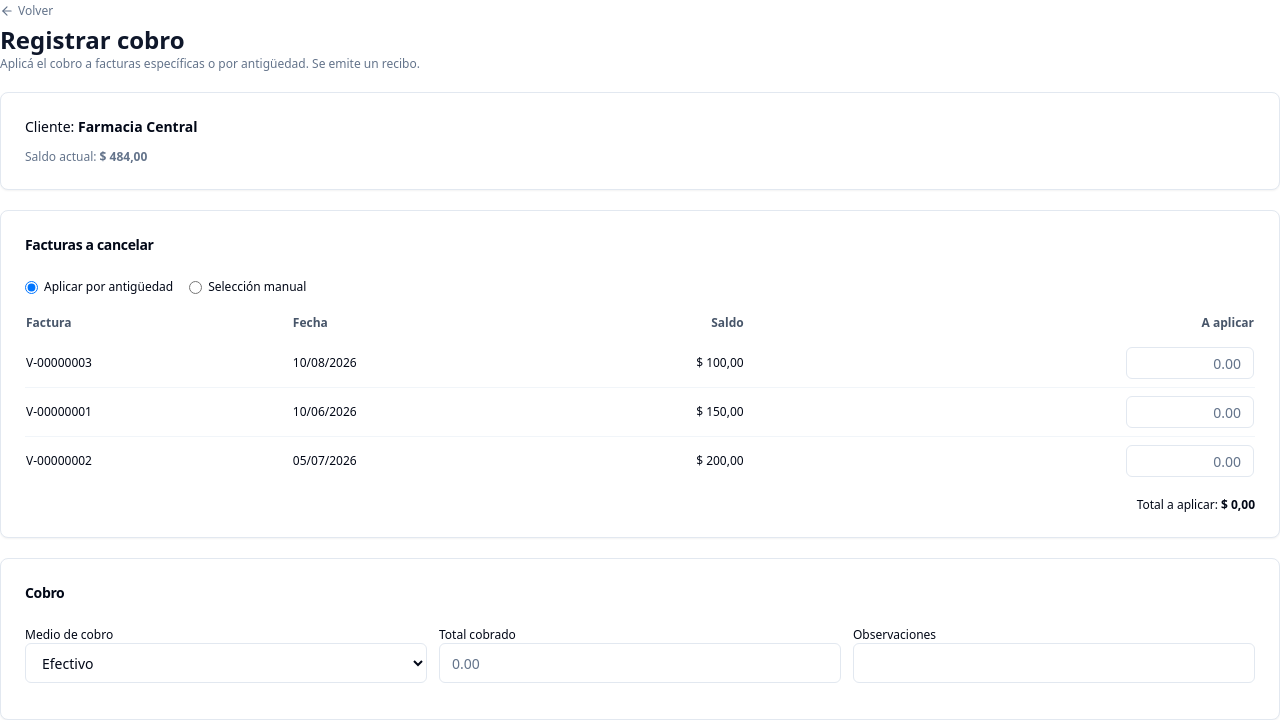
Test: PaymentFormPage › blocks a manual amount above the invoice balance
The width and height of the screenshot is (1280, 720).
Check: the text "V-00000001" is shown, box [25,388,292,436]
Click the radio button labelled "Selección manual". click: [196, 287]
box: [189,280,202,294]
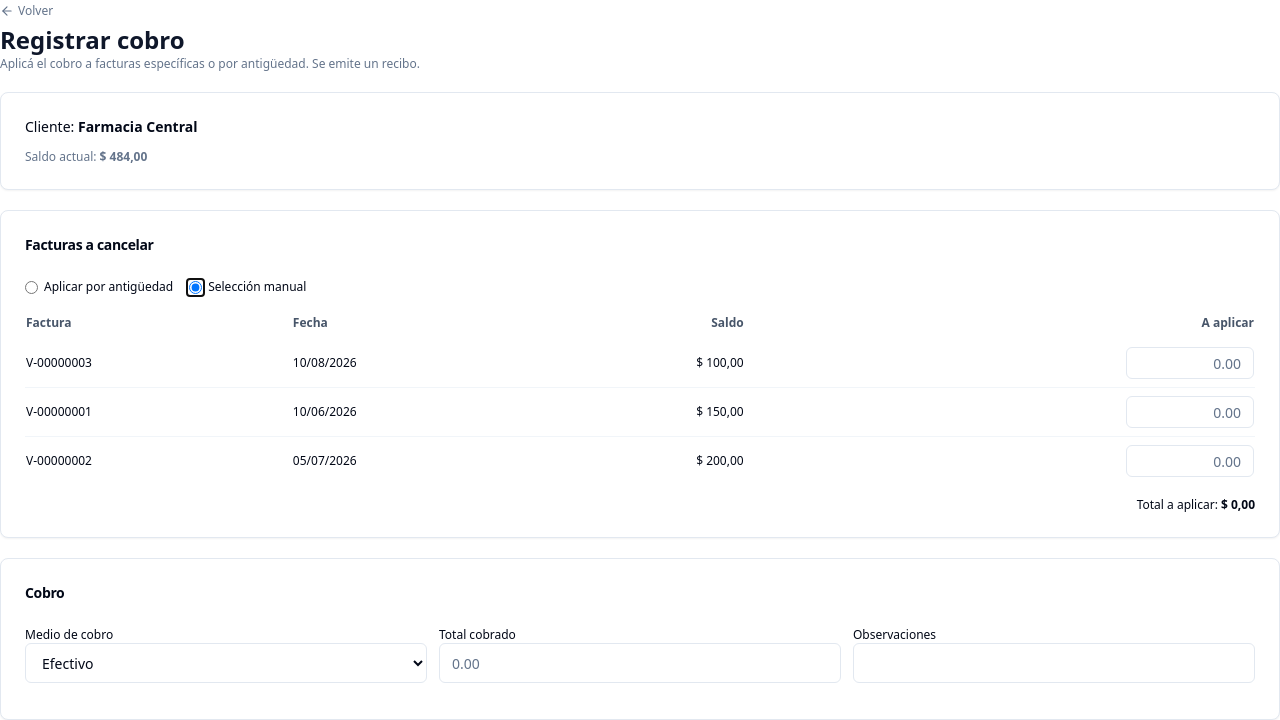
Type "160.00" into the field labelled "Total cobrado". click: [640, 663]
box: [439,643,841,683]
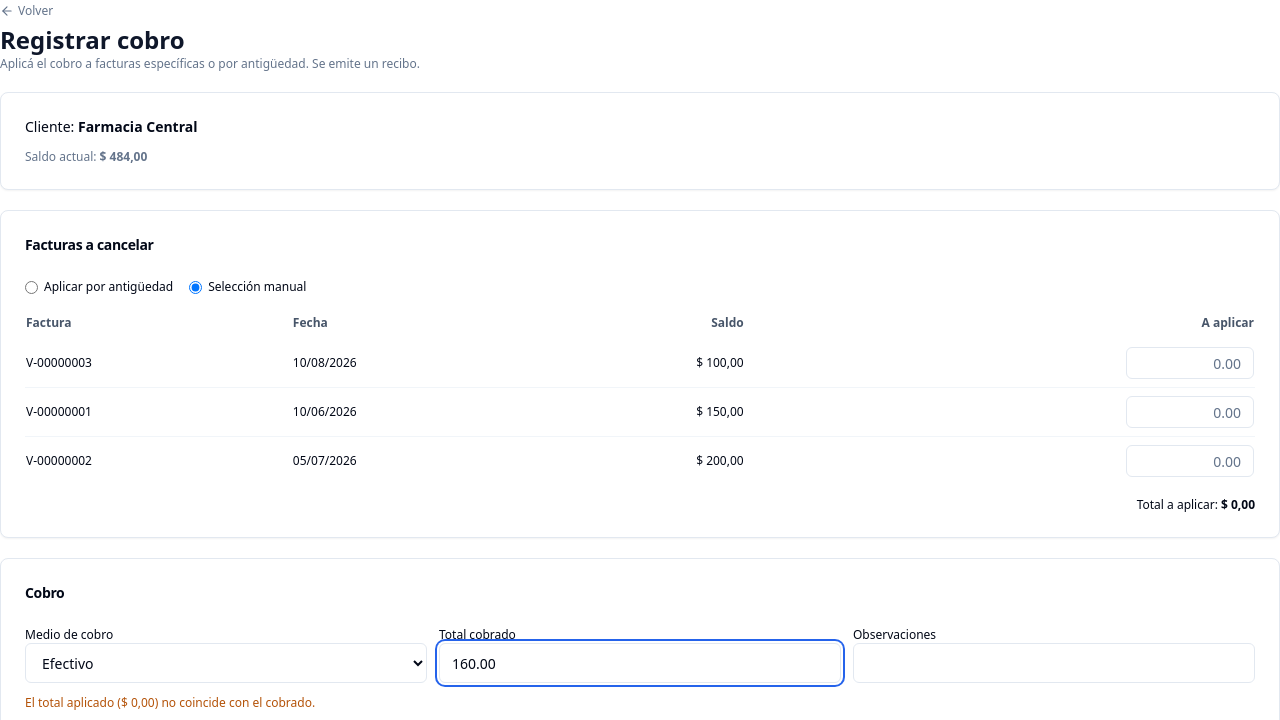
Type "160.00" into the field with placeholder "0.00" in the row of "V-00000001". click: [1190, 412]
box: [1126,396,1254,428]
(page scrolled)
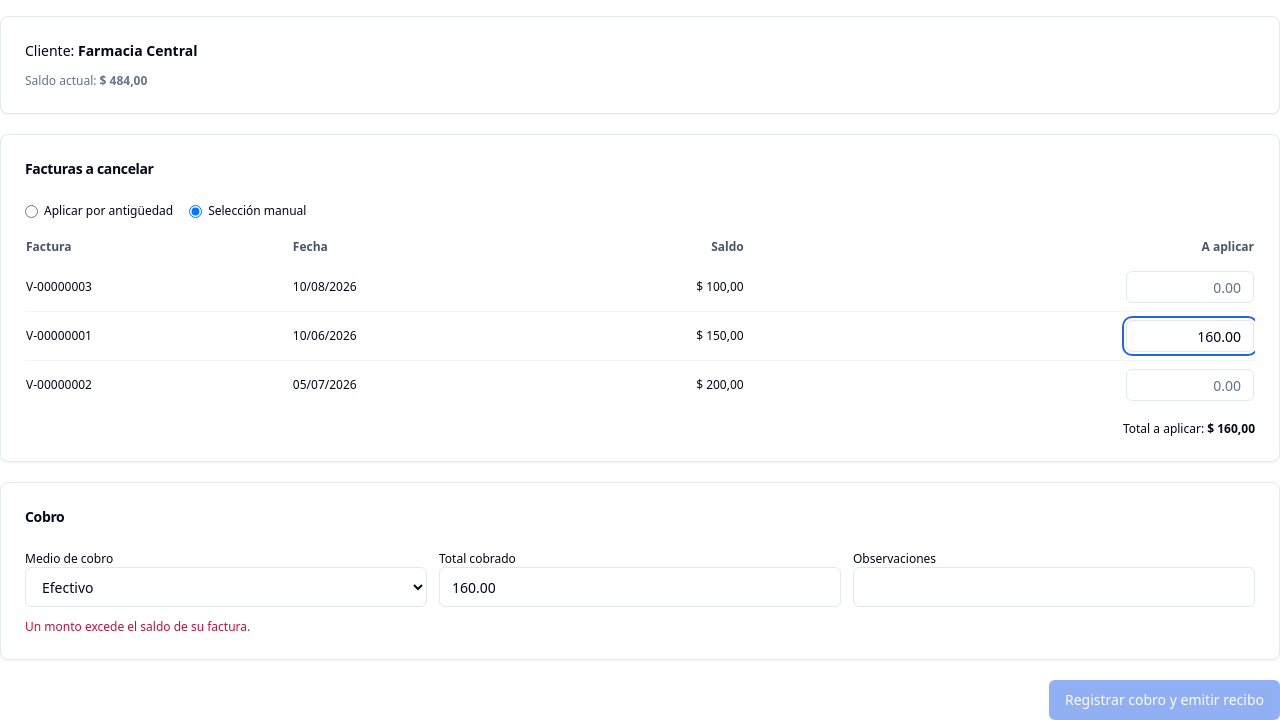
Check: the button "Registrar cobro y emitir recibo" is disabled, box [1049,680,1279,719]
Check: the text "Un monto excede el saldo de su factura." is shown, box [25,618,250,635]
